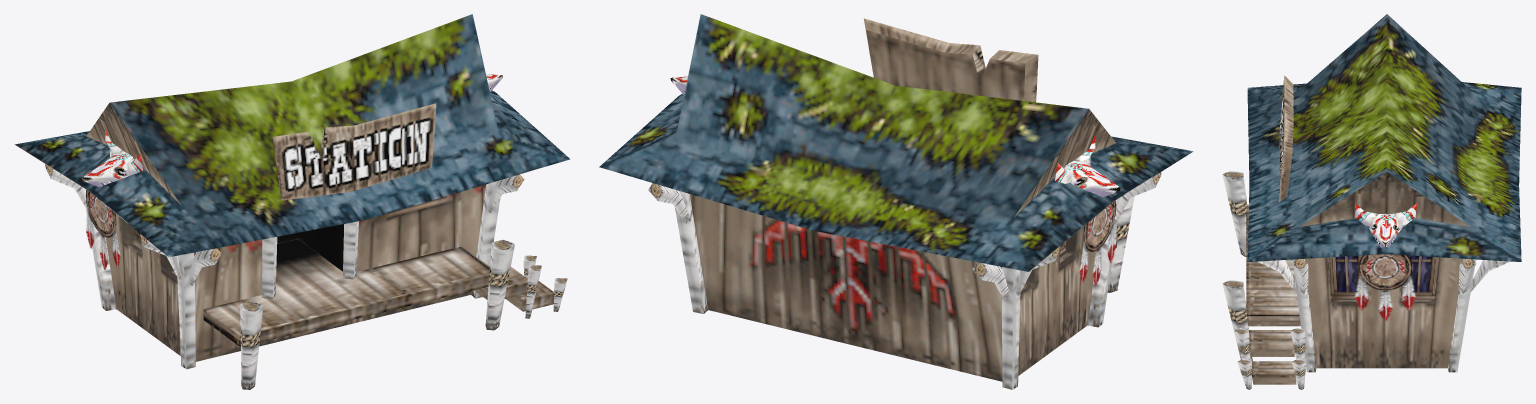
The picture shows the model from 3 angles, left to right: view 1: azimuth 30°, elevation 25°; view 2: azimuth 150°, elevation 25°; view 3: azimuth 270°, elevation 25°; orthographic projection. The views are drawn at different scales.
Parts seen in each view (by area): view 1: roof, main, platform, Sign, corner1, post_02, post_01, sheild2, skull1, corner4, corner2, door_post_02 (+6 smaller); view 2: roof, main, Sign, corner2, corner3, sheild2, skull1, corner1, post_01, support5, support4, support2; view 3: roof, main, platform, sheild1, Sign, skull2, window4, post_01, step_01, window3, step_02, corner3 (+10 smaller).
Part boxes in pixels (x1,y1,x2,y2): roof: [14, 14, 569, 257]; main: [105, 184, 486, 361]; platform: [203, 246, 489, 346]; Sign: [272, 103, 436, 200]; corner1: [177, 252, 195, 369]; post_02: [485, 239, 514, 330]; post_01: [240, 301, 263, 389]; sheild2: [85, 190, 120, 270]; skull1: [82, 129, 143, 186]; corner4: [471, 181, 500, 298]; corner2: [85, 189, 116, 310]; door_post_02: [262, 237, 277, 298]; roof: [599, 14, 1193, 271]; main: [690, 194, 1096, 381]; Sign: [863, 18, 1038, 102]; corner2: [1001, 267, 1020, 389]; corner3: [675, 191, 708, 313]; sheild2: [1079, 200, 1116, 286]; skull1: [1055, 136, 1120, 197]; corner1: [1087, 198, 1118, 327]; post_01: [1107, 196, 1134, 292]; support5: [648, 183, 691, 223]; support4: [972, 262, 1009, 300]; support2: [1109, 172, 1161, 226]; roof: [1247, 14, 1521, 261]; main: [1305, 257, 1463, 368]; platform: [1246, 204, 1300, 326]; sheild1: [1354, 254, 1415, 320]; Sign: [1278, 75, 1293, 201]; skull2: [1355, 203, 1416, 247]; window4: [1328, 255, 1365, 298]; post_01: [1222, 170, 1246, 256]; step_01: [1249, 330, 1294, 356]; window3: [1401, 255, 1439, 298]; step_02: [1251, 361, 1296, 384]; corner3: [1448, 258, 1475, 372].
Bounding box in the file's own units: 645 × 354 × 446.
34 materials, 34 textured.
